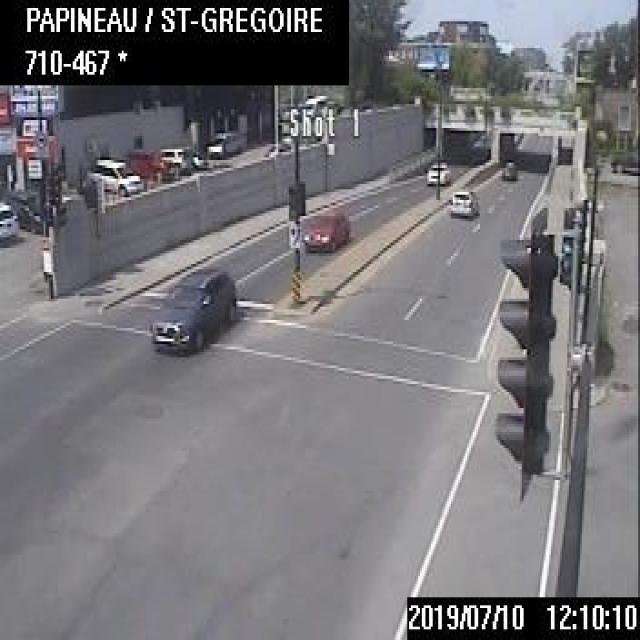vehicle: (147, 264, 235, 352), (86, 149, 142, 194), (300, 209, 349, 251), (126, 147, 174, 182), (145, 144, 194, 176), (202, 123, 248, 157), (5, 189, 41, 231), (446, 183, 480, 219), (0, 198, 22, 245), (608, 148, 638, 177), (426, 156, 450, 185), (498, 157, 516, 177)
